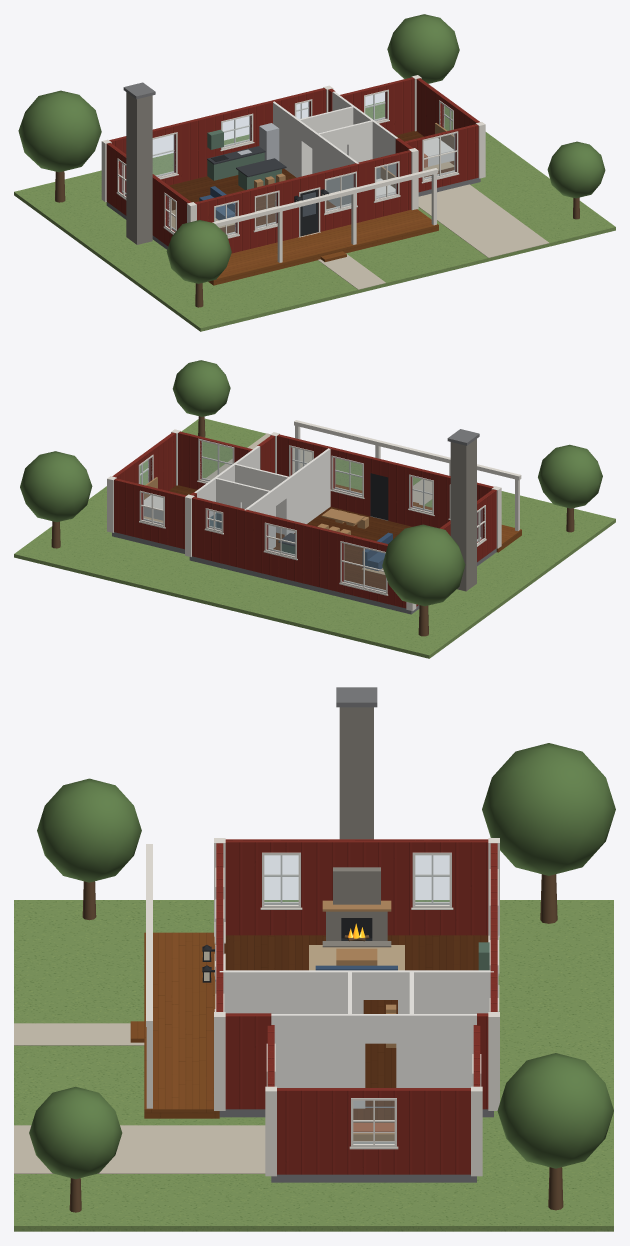
The model's file is farmhouse-red-open.glb.
3 renders of one model, top to bottom at view 1: azimuth 30°, elevation 25°; view 2: azimuth 150°, elevation 25°; view 3: azimuth 270°, elevation 25°, orthographic. The views are drawn at different scales.
Parts seen in each view (by area): view 1: lawn, siding, leaves, inner, glass, deck, gravel, trim, frame, stone, wood, cabinet (+8 smaller); view 2: lawn, siding, leaves, inner, glass, frame, trim, stone, wood, foundation, trunk, gravel (+4 smaller); view 3: lawn, siding, leaves, inner, deck, gravel, wood, stone, trim, glass, frame, foundation (+3 smaller).
Boxes of the visible parts, bbox=[...] form: lawn: bbox=[14, 101, 615, 331]; siding: bbox=[106, 77, 479, 253]; leaves: bbox=[18, 14, 605, 283]; inner: bbox=[273, 91, 398, 206]; glass: bbox=[120, 92, 455, 235]; deck: bbox=[208, 209, 438, 285]; gravel: bbox=[318, 184, 549, 289]; trim: bbox=[101, 75, 485, 262]; frame: bbox=[117, 89, 458, 237]; stone: bbox=[126, 92, 152, 244]; wood: bbox=[169, 131, 454, 233]; cabinet: bbox=[207, 129, 281, 190]; lawn: bbox=[14, 418, 615, 658]; siding: bbox=[112, 431, 496, 608]; leaves: bbox=[20, 360, 602, 606]; inner: bbox=[194, 446, 330, 548]; glass: bbox=[140, 441, 482, 591]; frame: bbox=[138, 438, 485, 594]; trim: bbox=[107, 420, 521, 610]; stone: bbox=[450, 439, 476, 591]; wood: bbox=[169, 485, 412, 589]; foundation: bbox=[112, 429, 496, 614]; trunk: bbox=[51, 416, 574, 636]; gravel: bbox=[205, 433, 432, 505]; lawn: bbox=[14, 900, 613, 1231]; siding: bbox=[216, 839, 497, 1174]; leaves: bbox=[29, 743, 615, 1179]; inner: bbox=[219, 970, 493, 1108]; deck: bbox=[130, 932, 219, 1118]; gravel: bbox=[14, 1023, 265, 1173]; wood: bbox=[224, 935, 488, 1122]; stone: bbox=[322, 707, 391, 947]; trim: bbox=[146, 838, 499, 1176]; glass: bbox=[264, 855, 449, 1143]; frame: bbox=[215, 852, 498, 1146]; foundation: bbox=[219, 687, 493, 1182].
Bounding box in the file's own units: 0.4691 × 0.1586 × 0.3511.
32 materials, 6 textured.
